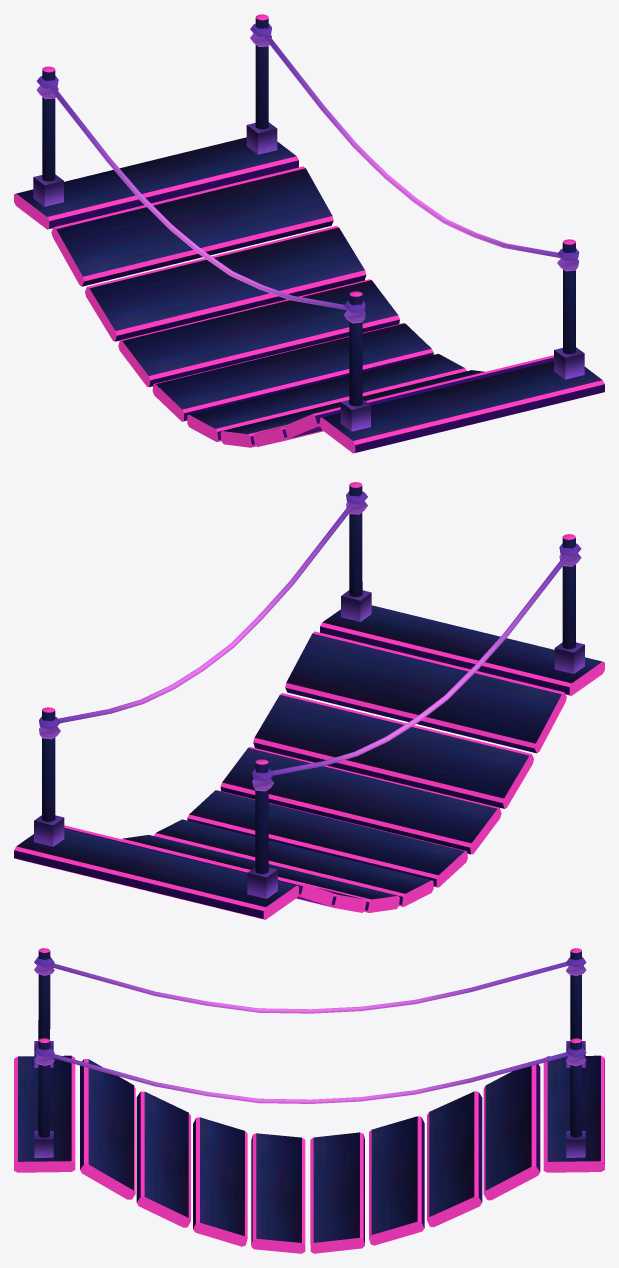
3 renders of one model, top to bottom at view 1: azimuth 30°, elevation 25°; view 2: azimuth 150°, elevation 25°; view 3: azimuth 270°, elevation 25°, orthographic. The views are drawn at different scales.
Parts seen in each view (by area): view 1: NeonBridge02; view 2: NeonBridge02; view 3: NeonBridge02.
Boxes of the visible parts, x1,y1,x2,y2 form: NeonBridge02: [14, 14, 604, 453]; NeonBridge02: [14, 482, 604, 919]; NeonBridge02: [14, 948, 604, 1253].
Size of what is drawn, in the model's own units: 1.86 by 1.69 by 4.41.
2 materials, 2 textured.
